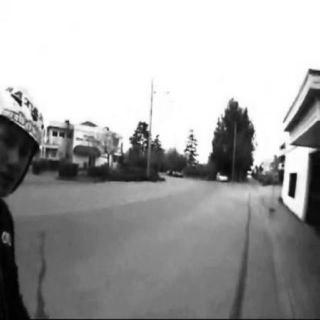other: (255, 109, 281, 155)
